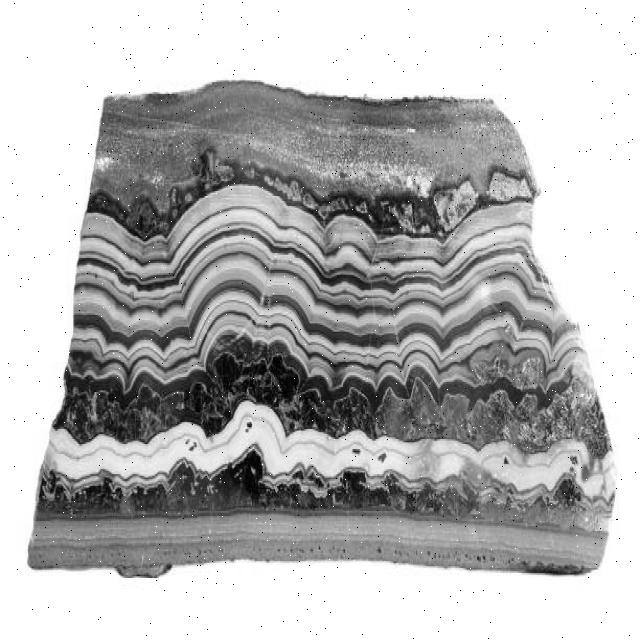Metamorphic: (65, 78, 603, 580)
